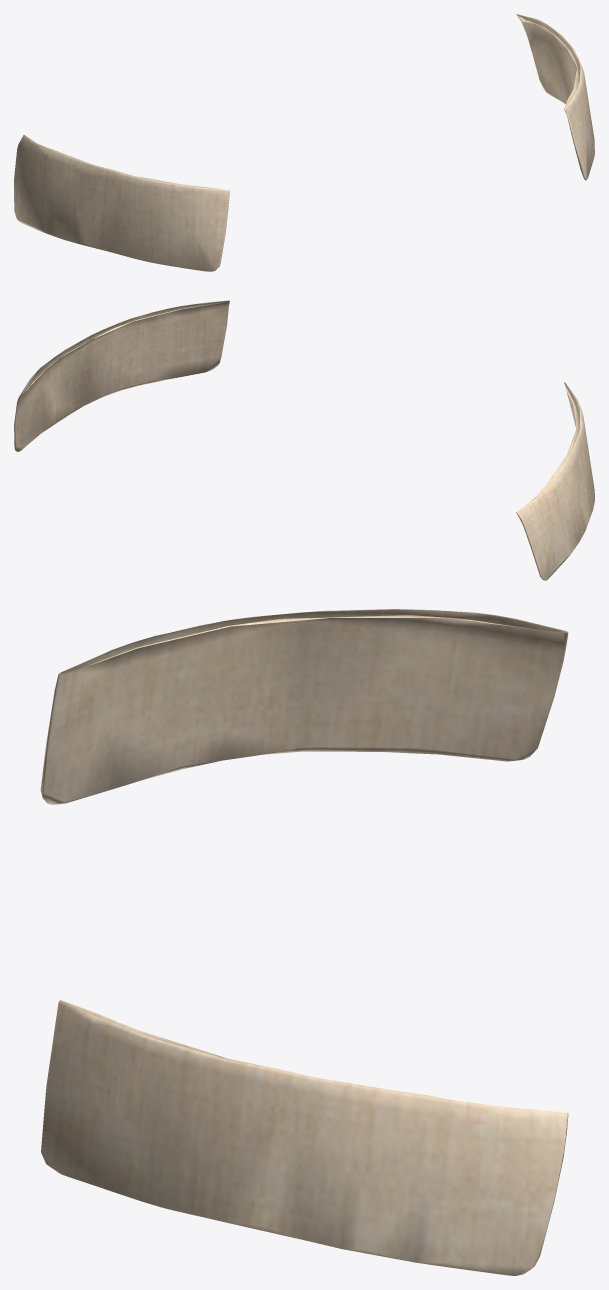
The model's file is Flap_Pocket_n.glb.
3 renders of one model, top to bottom at view 1: azimuth 30°, elevation 25°; view 2: azimuth 150°, elevation 25°; view 3: azimuth 270°, elevation 25°, orthographic. The views are drawn at different scales.
Visible parts, largest first — view 1: Flap_Pocket; view 2: Flap_Pocket; view 3: Flap_Pocket.
Part boxes in pixels (x1=…): Flap_Pocket: x1=14, y1=14, x2=594, y2=271; Flap_Pocket: x1=14, y1=300, x2=594, y2=580; Flap_Pocket: x1=40, y1=609, x2=568, y2=1275.
Bounding box in the file's own units: 0.0462 × 0.00762 × 0.02.
Materials: 1 (1 with a texture image).
